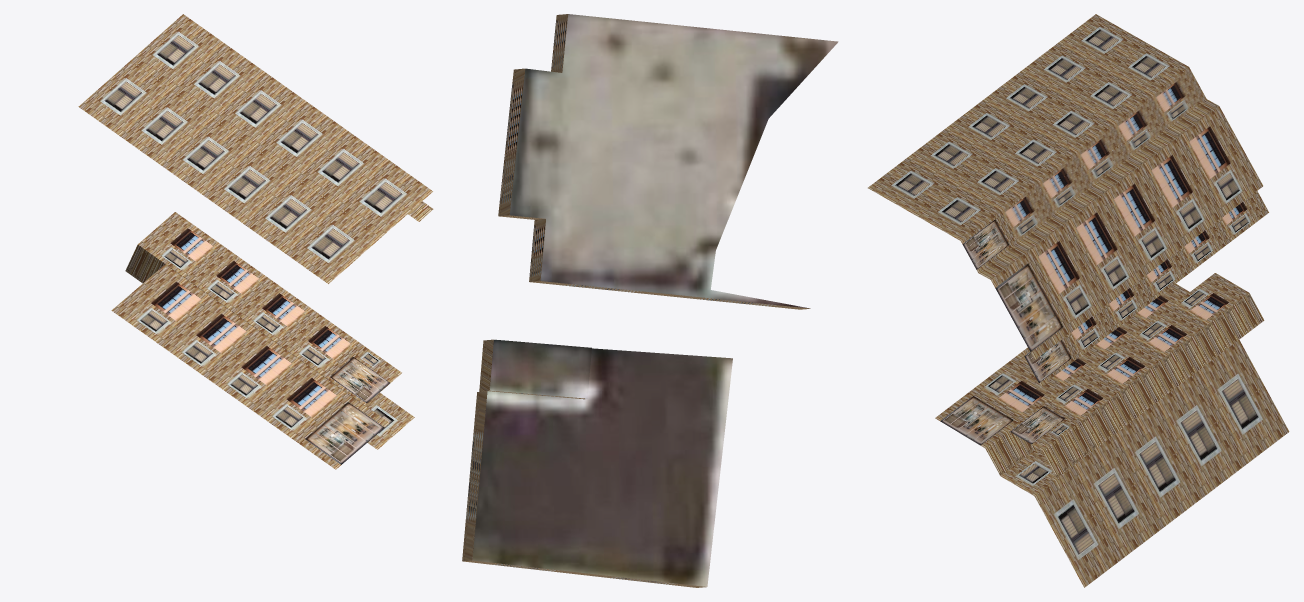
The picture shows the model from 3 angles, left to right: view 1: azimuth 30°, elevation 25°; view 2: azimuth 150°, elevation 25°; view 3: azimuth 270°, elevation 25°; orthographic projection. The views are drawn at different scales.
Size of the model in its own units: 22.62 by 33.34 by 26.8.
Materials: 12 (12 with a texture image).
